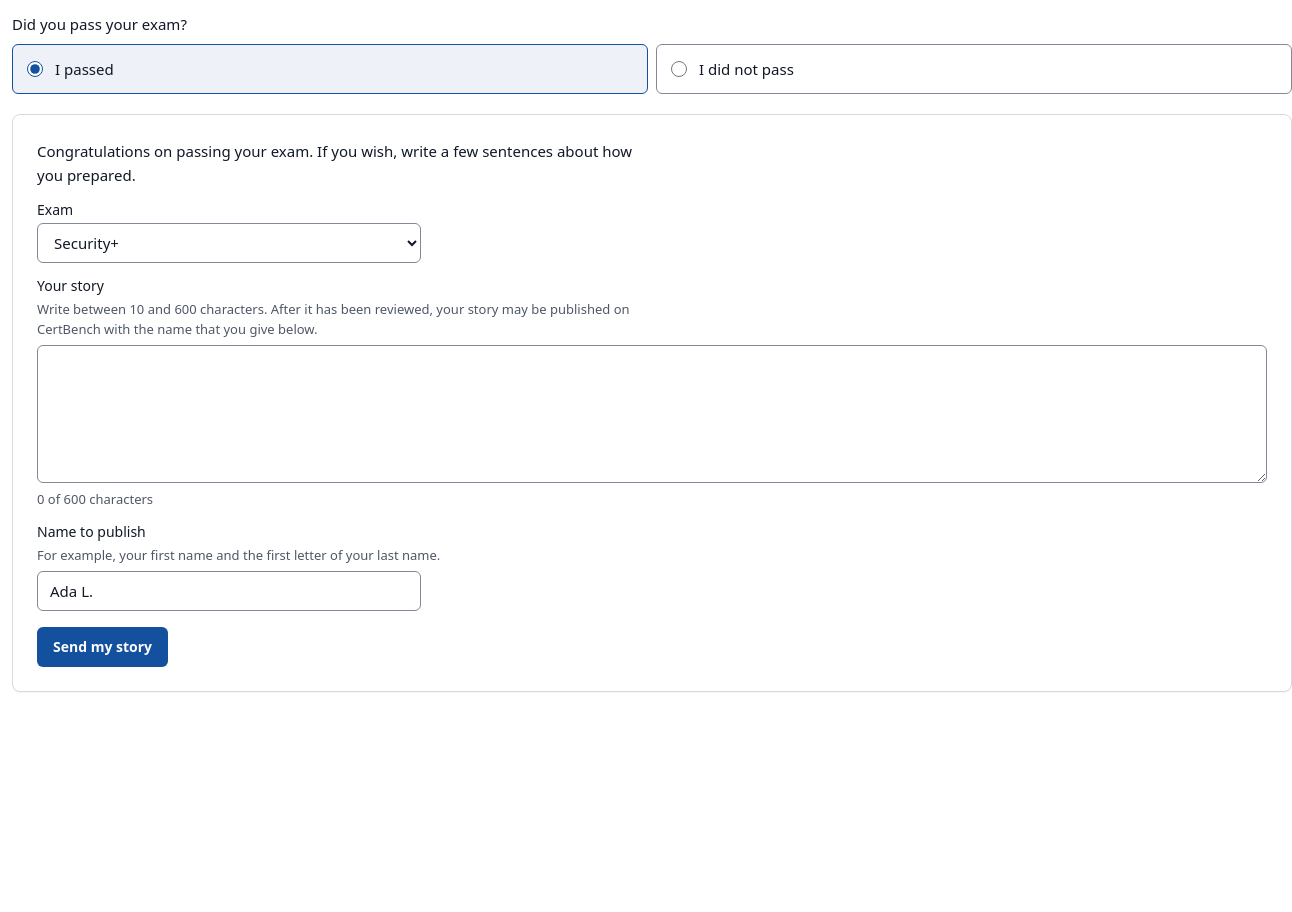
Test: FeedbackClient › says a story that is too short beside the button, tied to the field, and sends nothing
In the text box labelled "Your story": x=652, y=414 [37,345,1267,483], type "Too short"
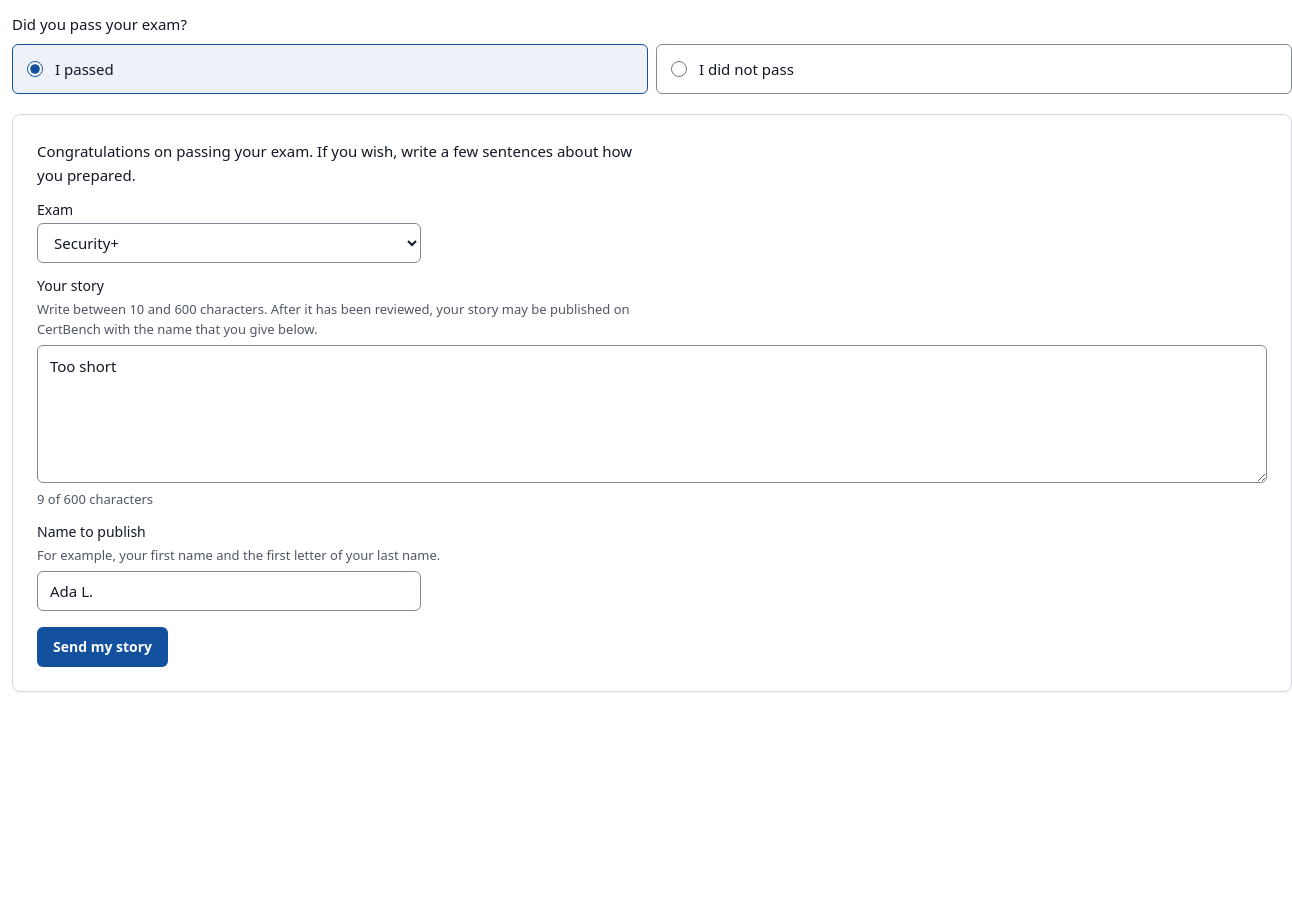
Click the button "Send my story": x=103, y=647 [37,627,168,667]
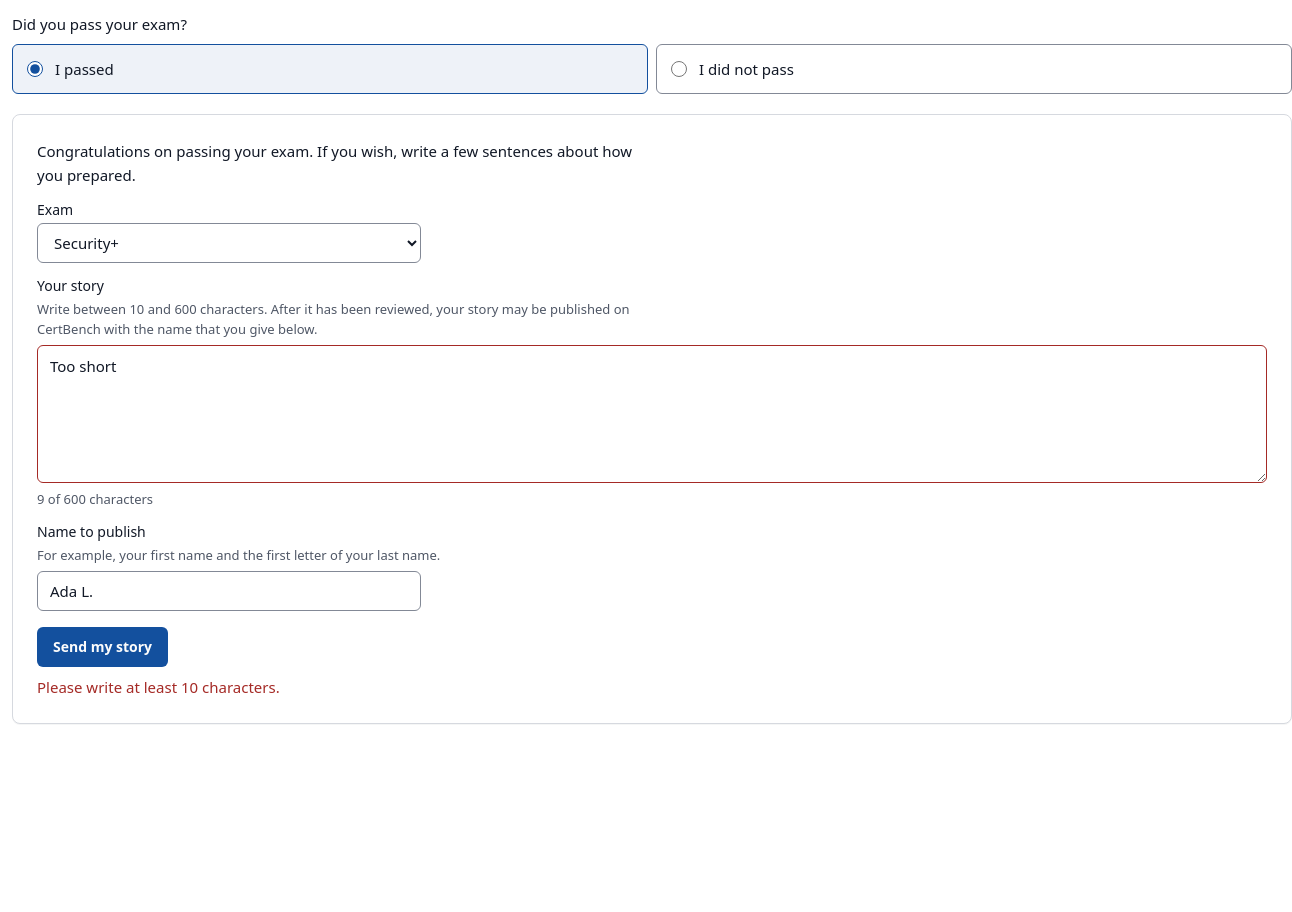
Now the message reads "Please write at least 10 characters.", box [37,677,280,697]
